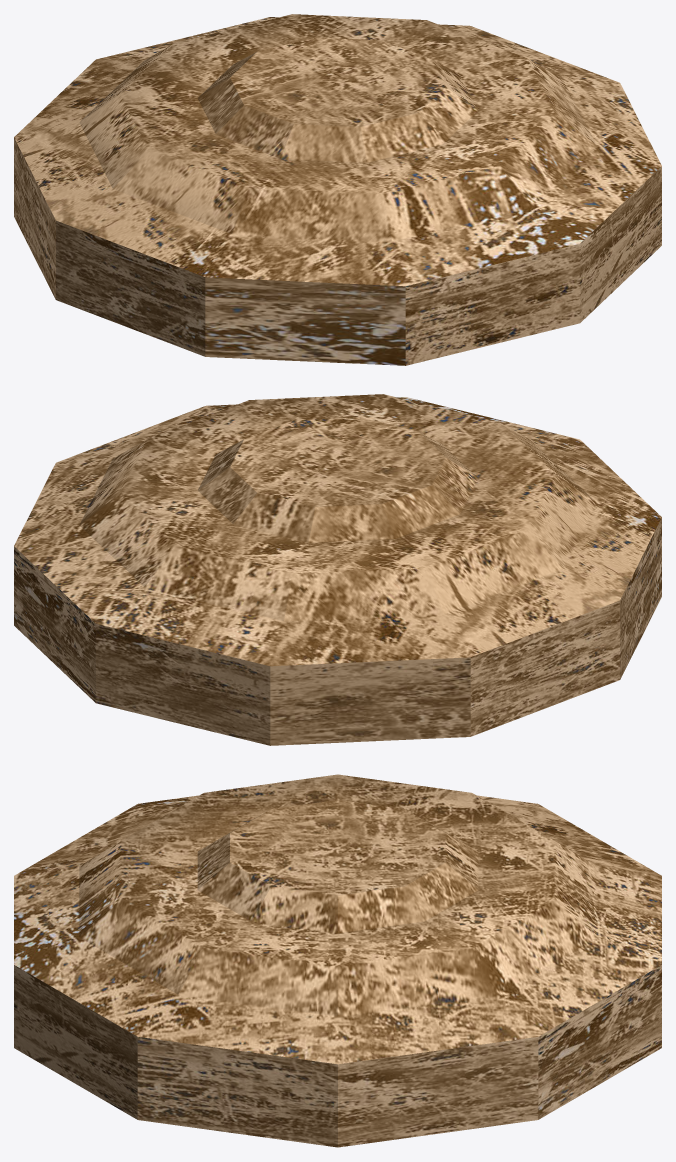
The model's file is Mine.fbx.
3 renders of one model, top to bottom at view 1: azimuth 30°, elevation 25°; view 2: azimuth 150°, elevation 25°; view 3: azimuth 270°, elevation 25°, orthographic. The views are drawn at different scales.
Visible parts, largest first — view 1: pCylinder2; view 2: pCylinder2; view 3: pCylinder2.
Part boxes in pixels (x1,y1,x2,y2): pCylinder2: [14, 14, 661, 365]; pCylinder2: [14, 394, 661, 745]; pCylinder2: [14, 774, 661, 1147].
Size of the model in its own units: 121 by 30.54 by 115.
